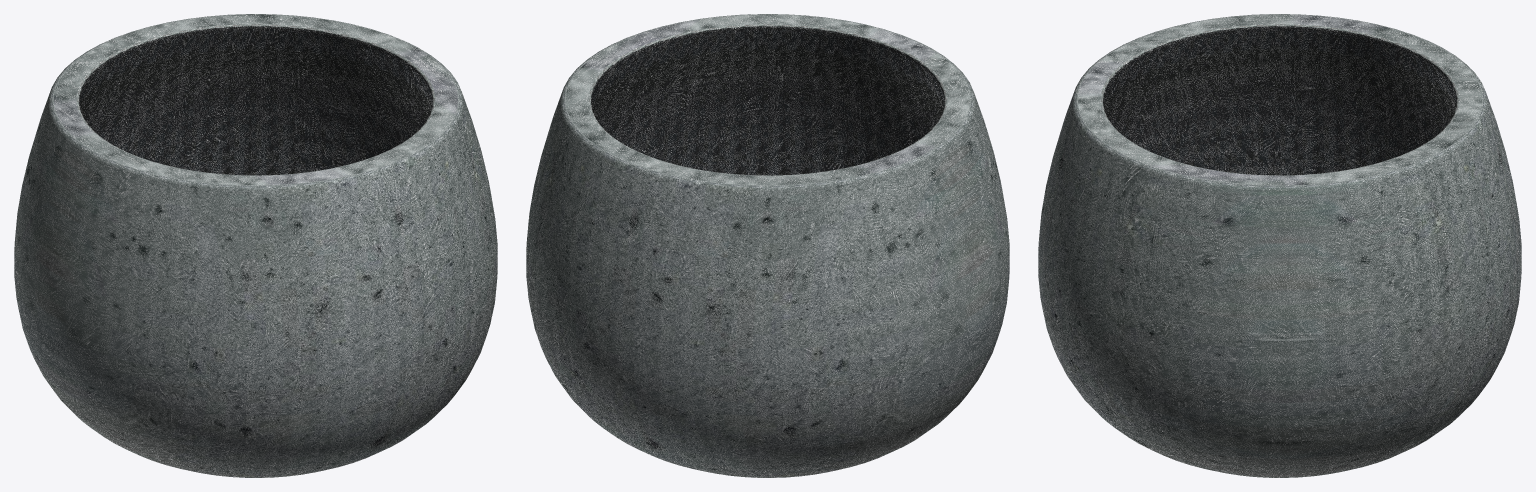
File: Concrete+pot.dae
3 renders of one model, left to right at view 1: azimuth 30°, elevation 25°; view 2: azimuth 150°, elevation 25°; view 3: azimuth 270°, elevation 25°, orthographic.
Parts seen in each view (by area): view 1: ID23, ID5, ID47, ID60; view 2: ID23, ID5, ID47, ID60; view 3: ID23, ID5, ID47, ID60.
Part boxes in pixels (bbox=[...]): ID23: bbox=[14, 60, 497, 477]; ID5: bbox=[79, 26, 432, 175]; ID47: bbox=[50, 14, 461, 187]; ID60: bbox=[76, 24, 435, 175]; ID23: bbox=[526, 60, 1009, 477]; ID5: bbox=[591, 26, 944, 175]; ID47: bbox=[562, 14, 973, 187]; ID60: bbox=[588, 24, 947, 175]; ID23: bbox=[1038, 60, 1521, 477]; ID5: bbox=[1103, 26, 1456, 175]; ID47: bbox=[1074, 14, 1485, 187]; ID60: bbox=[1100, 24, 1459, 175].
Bounding box in the file's own units: 24.18 × 18.98 × 24.18.
3 materials, 3 textured.
